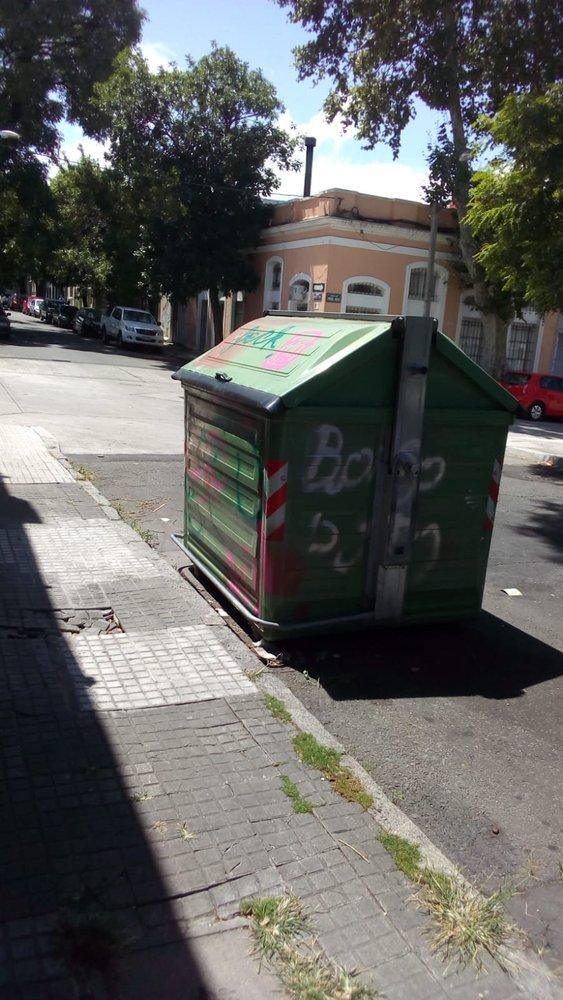Trash: (185, 302, 511, 660)
